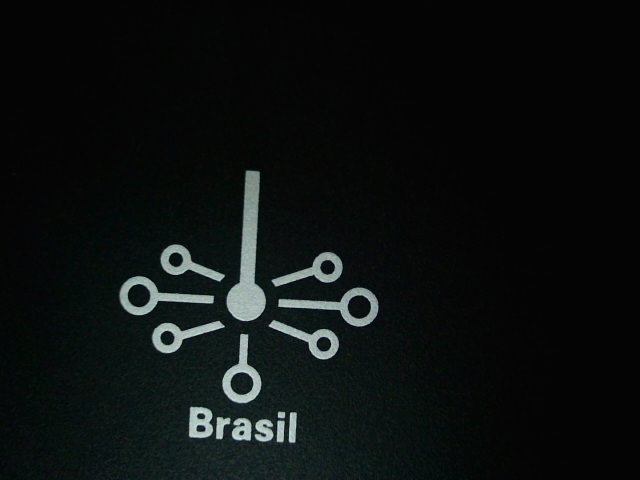BG_Brasil: (85, 141, 396, 457)
